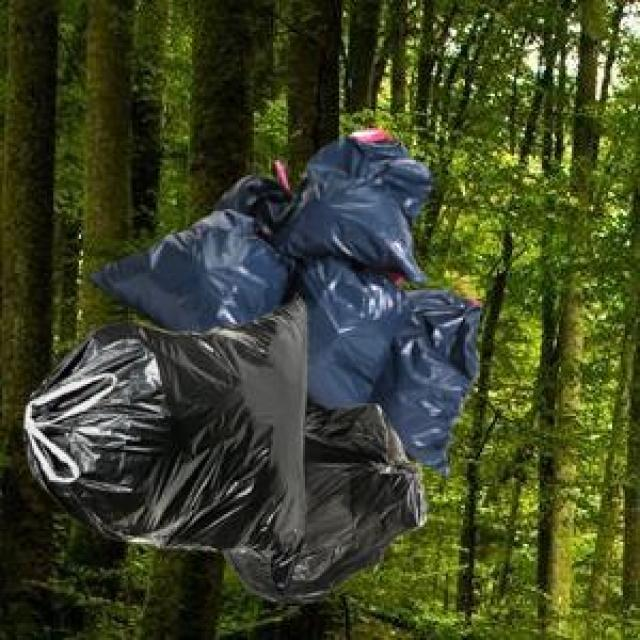Vinyl: (27, 308, 313, 556), (250, 403, 430, 601), (94, 208, 280, 328), (282, 137, 434, 267), (284, 269, 400, 416), (396, 287, 486, 467)
